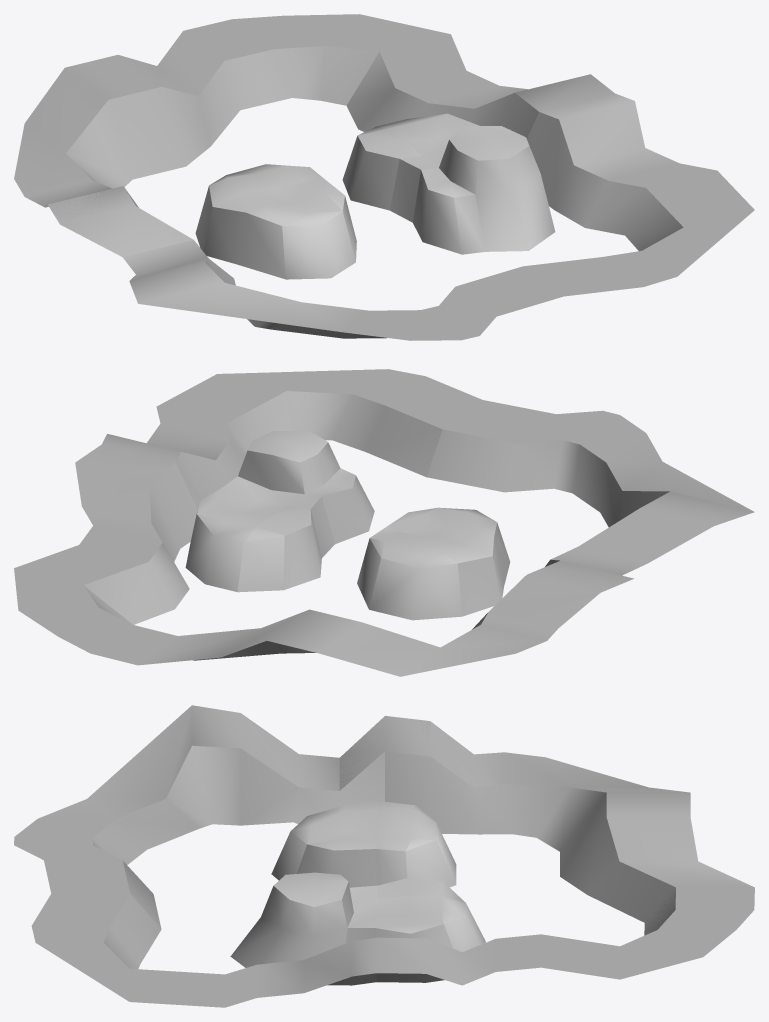
The model's file is Camcollision.obj.
The picture shows the model from 3 angles, top to bottom: view 1: azimuth 30°, elevation 25°; view 2: azimuth 150°, elevation 25°; view 3: azimuth 270°, elevation 25°; orthographic projection. The views are drawn at different scales.
Visible parts, largest first — view 1: part264, part261, part257, part263, part256, part262, part255, part260, part253, part258, part254, part259; view 2: part261, part263, part262, part253, part264, part260, part259, part254, part256, part258, part255, part257; view 3: part261, part257, part263, part264, part259, part262, part256, part253, part255, part254, part260, part258.
Boxes of the visible parts, box(x1,y1,x2,y2) form: part264: box(456, 93, 754, 316); part261: box(14, 19, 272, 257); part257: box(66, 46, 379, 207); part263: box(47, 190, 563, 340); part256: box(413, 125, 555, 254); part262: box(184, 14, 614, 111); part255: box(203, 178, 356, 279); part260: box(527, 112, 683, 251); part253: box(195, 126, 421, 250); part258: box(226, 50, 538, 138); part254: box(377, 113, 478, 222); part259: box(197, 244, 386, 338); part261: box(91, 560, 632, 676); part263: box(443, 400, 754, 591); part262: box(14, 444, 175, 664); part253: box(237, 506, 500, 620); part264: box(102, 369, 554, 462); part260: box(176, 391, 442, 509); part259: box(426, 429, 669, 566); part254: box(185, 476, 334, 591); part256: box(238, 431, 374, 544); part258: box(84, 462, 197, 624); part255: box(387, 507, 510, 599); part257: box(84, 586, 487, 660); part261: box(339, 716, 754, 909); part257: box(385, 751, 675, 935); part263: box(14, 705, 430, 893); part264: box(31, 860, 376, 1007); part259: box(93, 745, 384, 928); part262: box(376, 898, 754, 985); part256: box(230, 872, 353, 967); part253: box(376, 801, 465, 902); part255: box(271, 801, 378, 887); part254: box(346, 885, 485, 952); part260: box(103, 894, 376, 985); part258: box(376, 889, 675, 982).
Bounding box in the file's own units: 805 × 103 × 904.
Materials: 2 (1 with a texture image).
